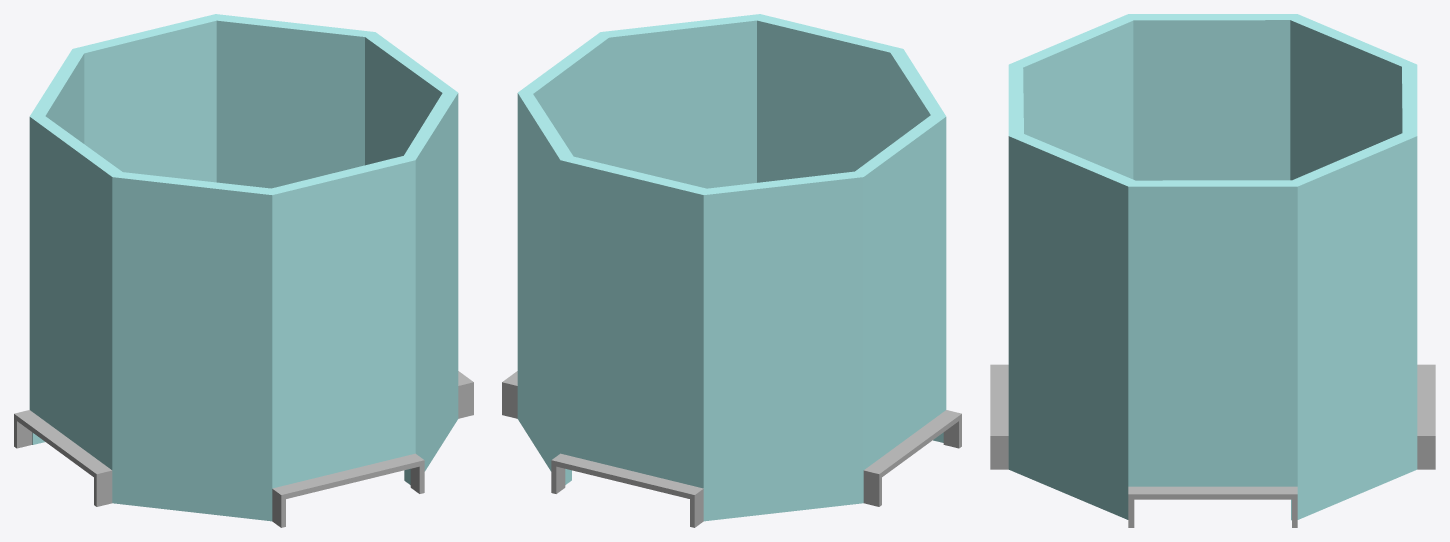
File: PGCC_ev.gltf
3 renders of one model, left to right at view 1: azimuth 30°, elevation 25°; view 2: azimuth 150°, elevation 25°; view 3: azimuth 270°, elevation 25°, orthographic. The views are drawn at different scales.
Parts seen in each view (by area): view 1: 切り欠き (×4); view 2: 切り欠き (×4); view 3: 切り欠き (×4).
Part boxes in pixels (x1,y1,x2,y2): 切り欠き (×4): (14,14,473,527); 切り欠き (×4): (502,14,961,527); 切り欠き (×4): (990,14,1435,527).
Bounding box in the file's own units: 121 × 100 × 121.
